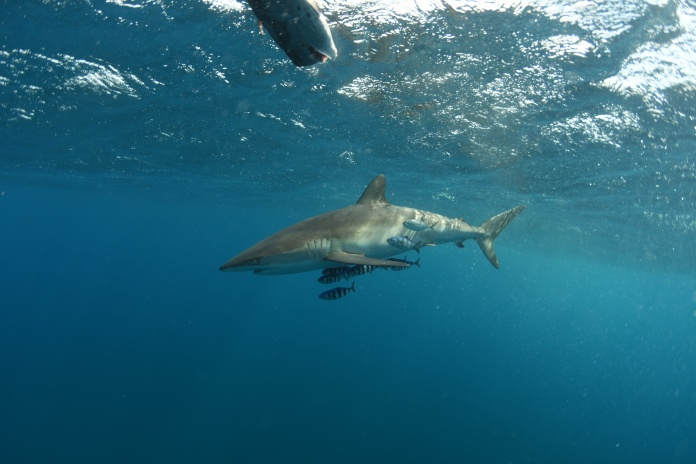Sedoso: (210, 168, 532, 297)
